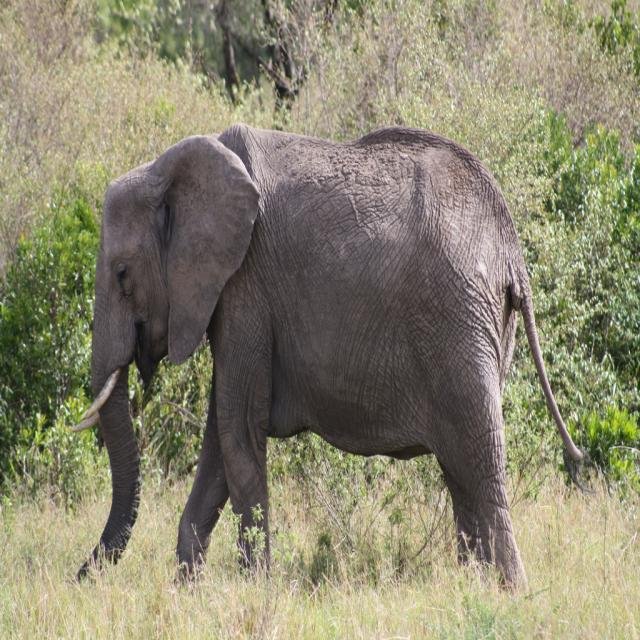elephant: (67, 113, 573, 601)
